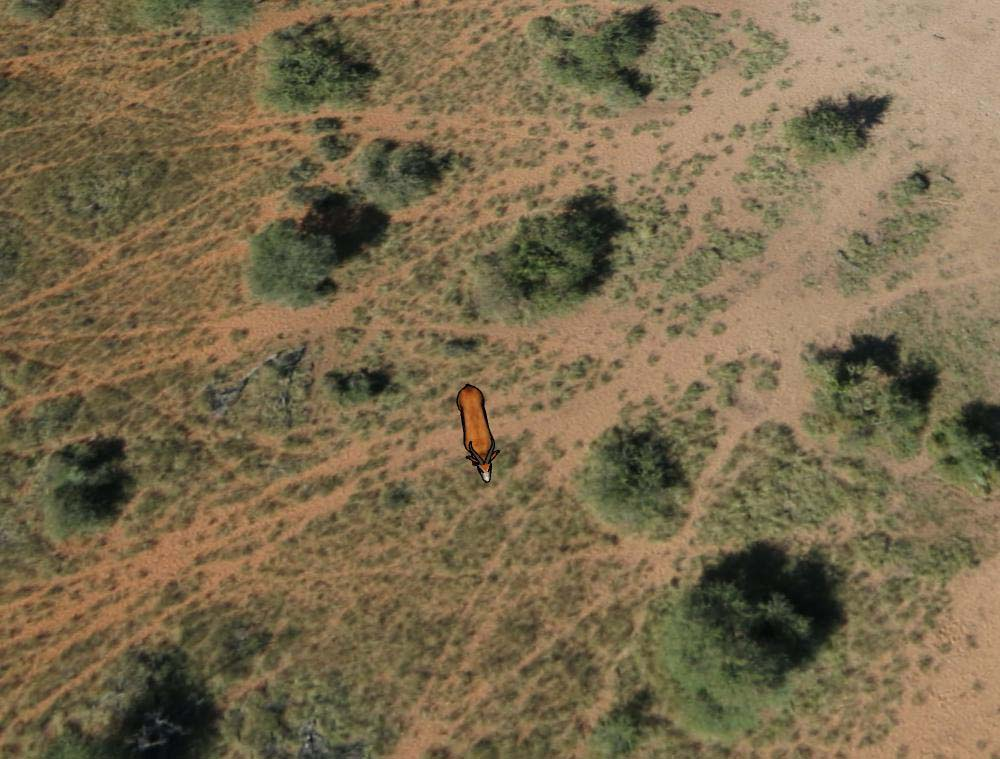springbok: (451, 381, 499, 484)
